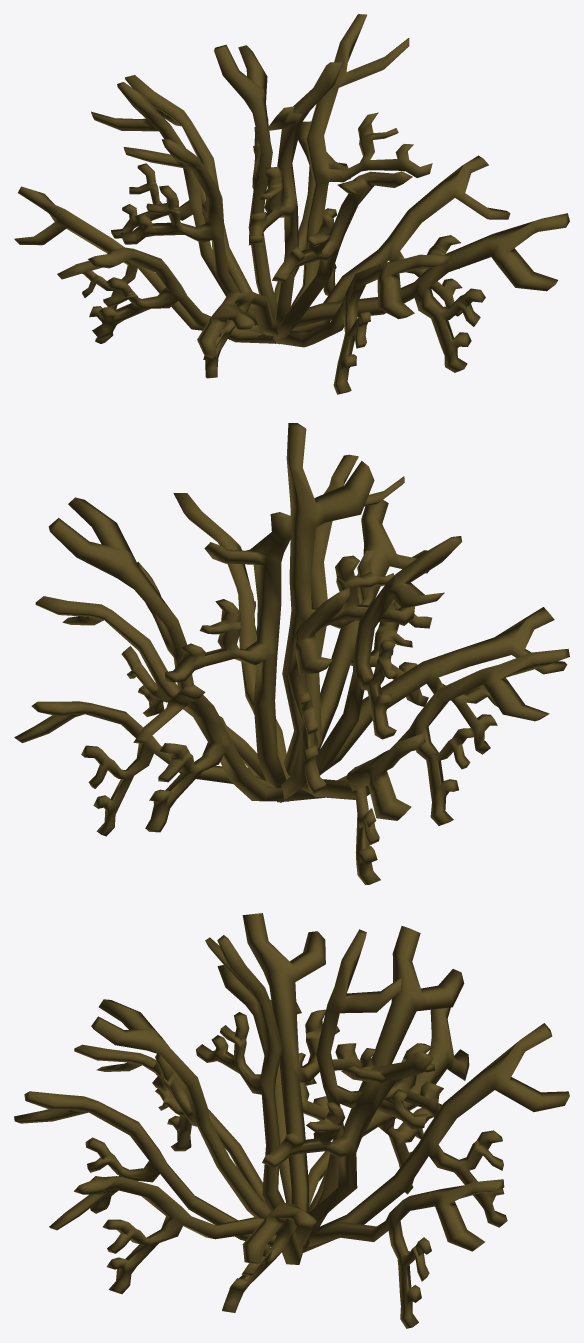
File: pensas.fbx
The picture shows the model from 3 angles, top to bottom: view 1: azimuth 30°, elevation 25°; view 2: azimuth 150°, elevation 25°; view 3: azimuth 270°, elevation 25°; orthographic projection. The views are drawn at different scales.
Parts seen in each view (by area): view 1: Cube; view 2: Cube; view 3: Cube.
Part boxes in pixels (bbox=[...]): Cube: bbox=[14, 14, 569, 394]; Cube: bbox=[14, 423, 569, 884]; Cube: bbox=[14, 913, 569, 1328].
Bounding box in the file's own units: 0.7611 × 0.5286 × 0.7721.
